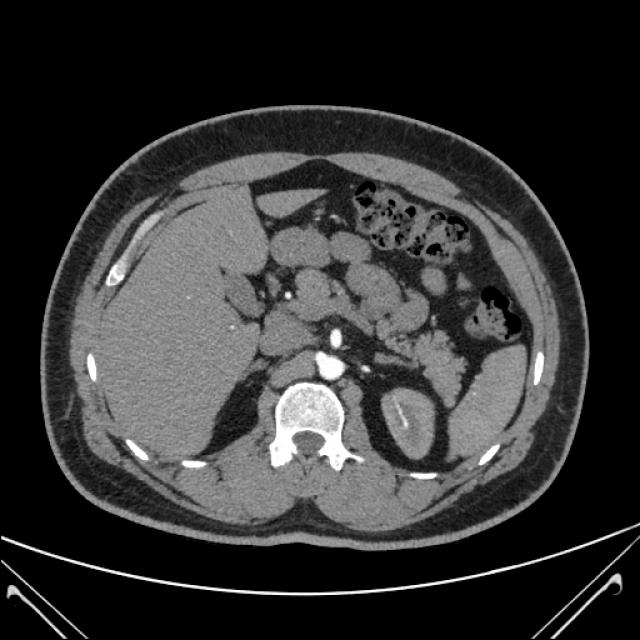Kidney: (42, 88, 640, 584)
